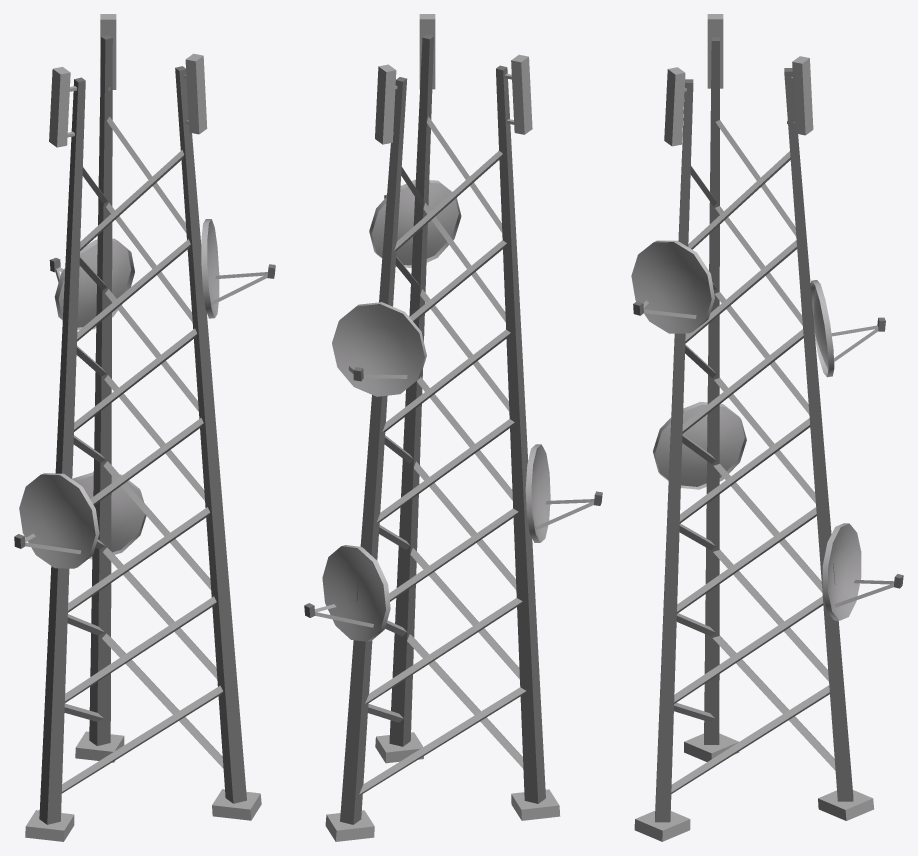
The model's file is SM_AntennaBig_01.gltf.
3 views of the same model, side by side, from view 1: azimuth 30°, elevation 25°; view 2: azimuth 150°, elevation 25°; view 3: azimuth 270°, elevation 25° (orthographic).
Parts seen in each view (by area): view 1: SM_AntennaBig_01; view 2: SM_AntennaBig_01; view 3: SM_AntennaBig_01.
Part boxes in pixels (x1,y1,x2,y2): SM_AntennaBig_01: [14, 14, 275, 841]; SM_AntennaBig_01: [304, 14, 602, 841]; SM_AntennaBig_01: [631, 14, 903, 841].
Bounding box in the file's own units: 3.22 × 9.68 × 3.22.
1 material, 1 textured.
